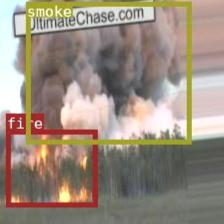fire: (5, 129, 97, 206)
smoke: (26, 2, 190, 144)
